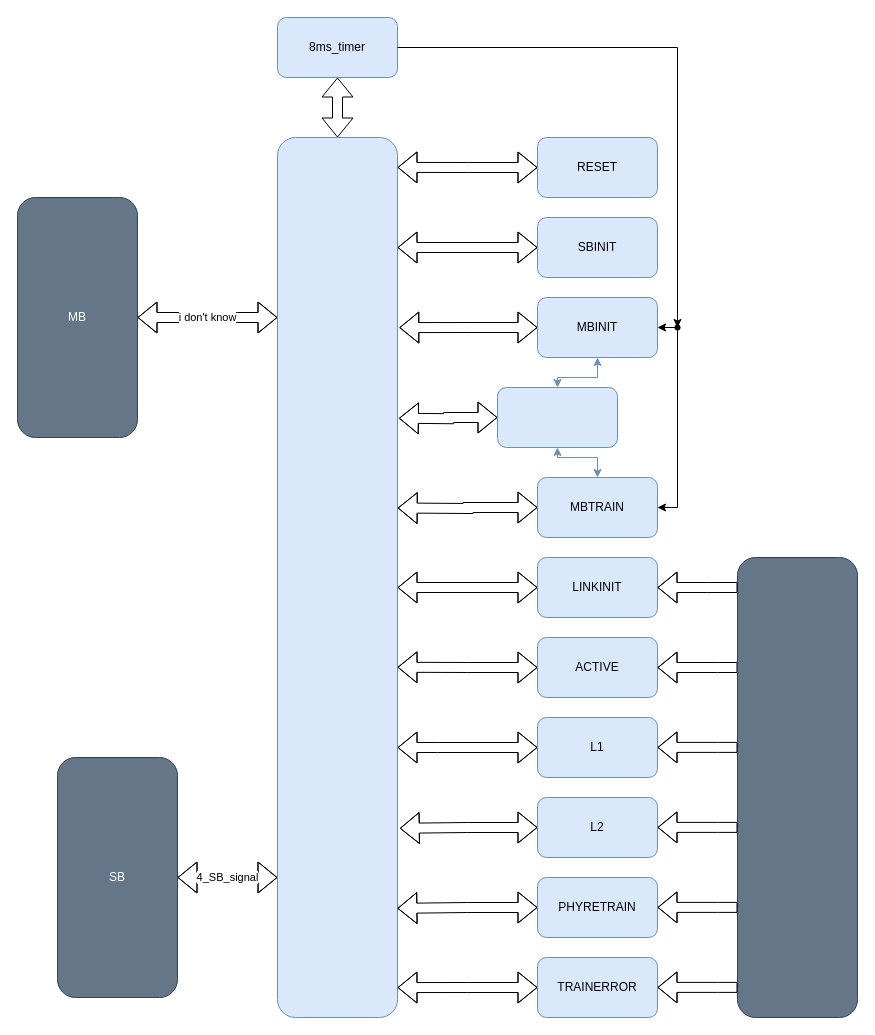
Image size: 875x1035. Some labels were removed from this diagram. Each missing label, with the centre of its shape:
"D2C_PT" goes at [557,417].
"ltsm_controller" goes at [337,577].
"RDI_SM" goes at [797,787].
